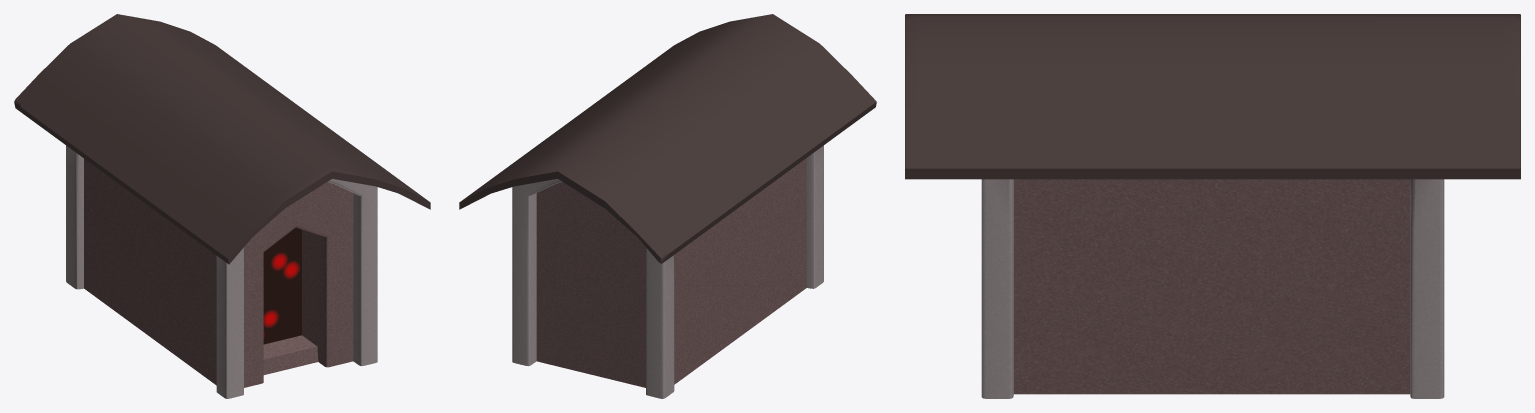
The model's file is Dog_House_03.fbx.
3 renders of one model, left to right at view 1: azimuth 30°, elevation 25°; view 2: azimuth 150°, elevation 25°; view 3: azimuth 270°, elevation 25°, orthographic. The views are drawn at different scales.
Visible parts, largest first — view 1: Dog_House_03; view 2: Dog_House_03; view 3: Dog_House_03.
Part boxes in pixels (x1,y1,x2,y2): Dog_House_03: (14, 14, 430, 398); Dog_House_03: (459, 14, 876, 398); Dog_House_03: (905, 14, 1520, 398).
Bounding box in the file's own units: 5.14 × 5.61 × 9.46.
